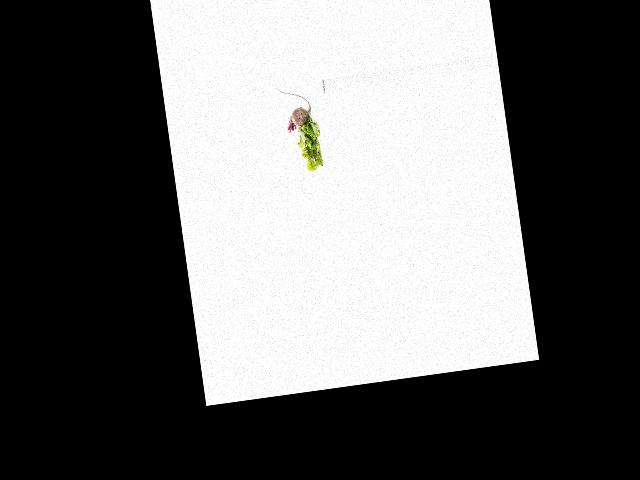beet: (276, 83, 314, 134)
